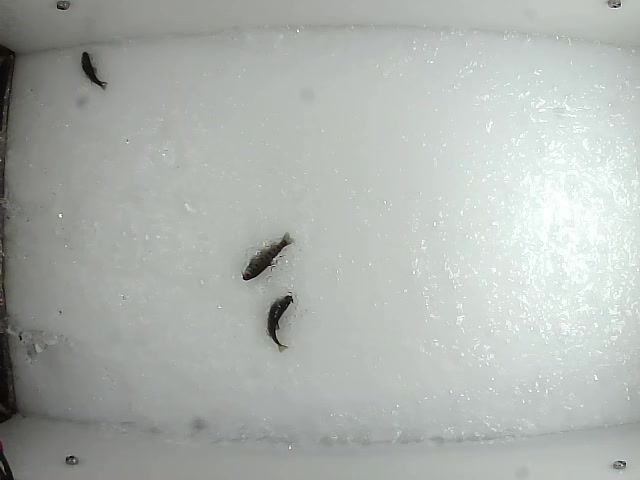fish: (240, 227, 294, 281), (265, 290, 296, 353), (80, 49, 109, 91)
